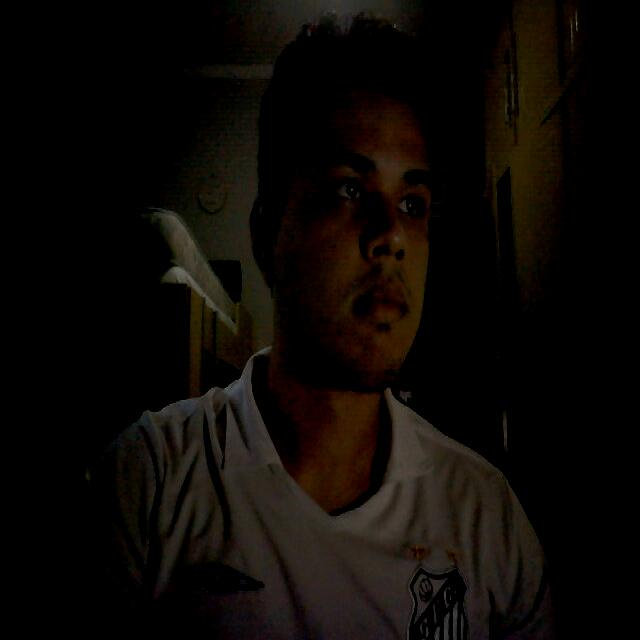acordado: (263, 90, 437, 388)
